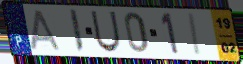0: (123, 11, 151, 56)
1: (160, 12, 182, 56)
A: (29, 8, 62, 52)
I: (68, 8, 86, 54), (188, 13, 203, 57)
U: (89, 10, 123, 54)
